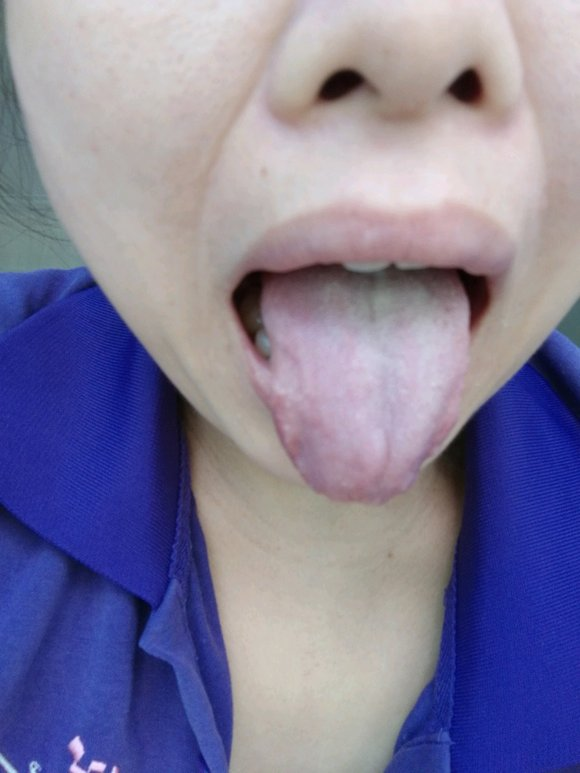gandanao: (265, 321, 318, 475)
huangtaishe: (260, 267, 469, 505)
